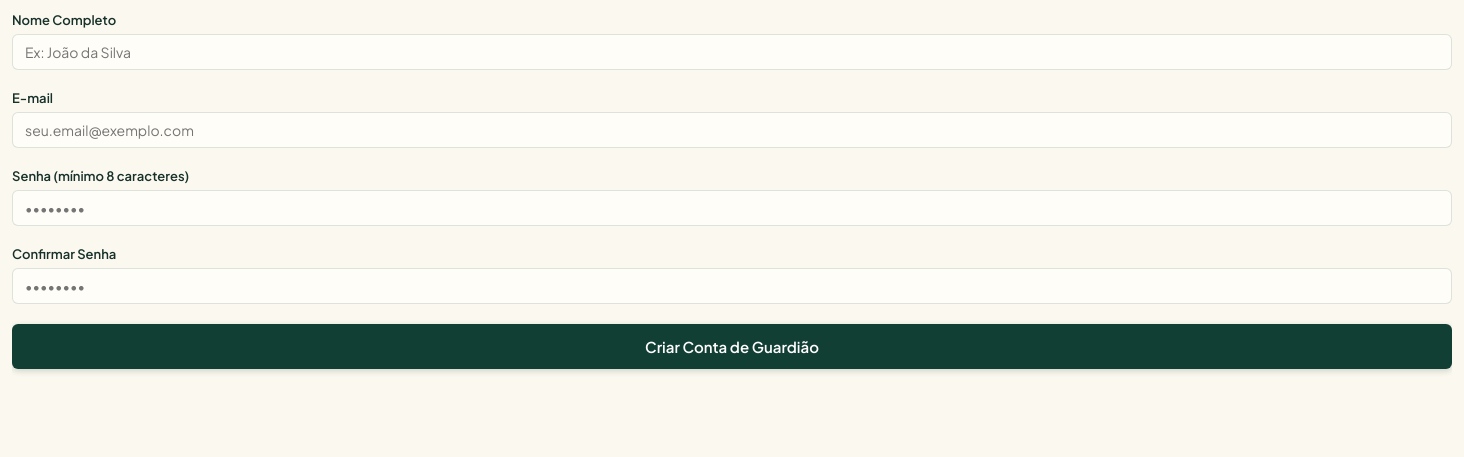
Auth Forms Component Tests › RegisterForm › validates minimum password length
The width and height of the screenshot is (1464, 457).
Type "Guardian Parent" into the field with test id "reg-name-input" at (732, 52), box [12,34,1452,70]
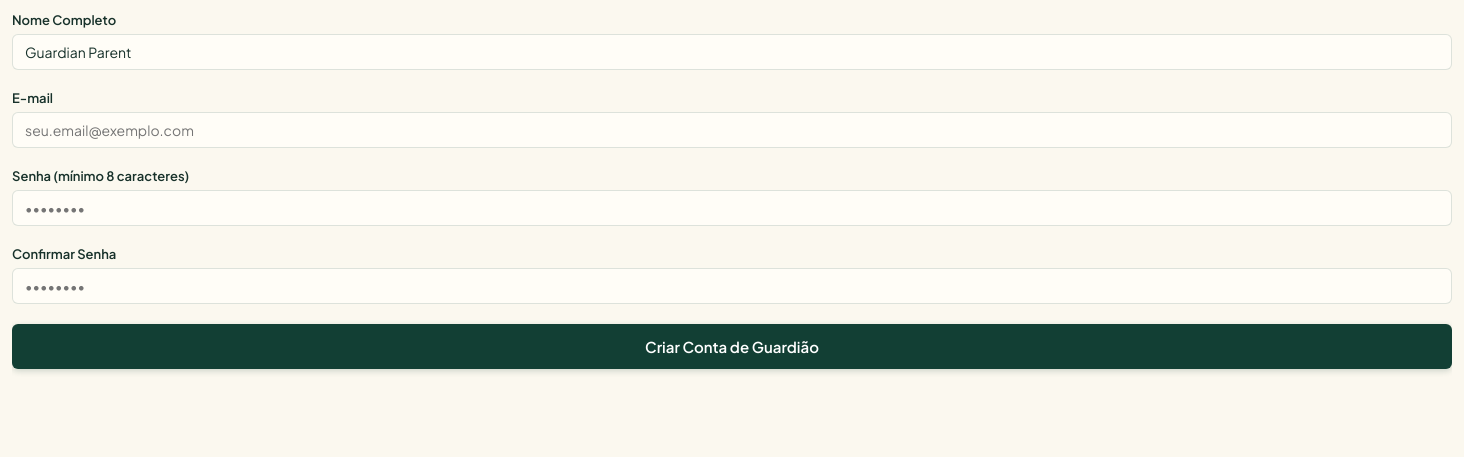
Type "guardian@test.com" into the field with test id "reg-email-input" at (732, 130), box [12,112,1452,148]
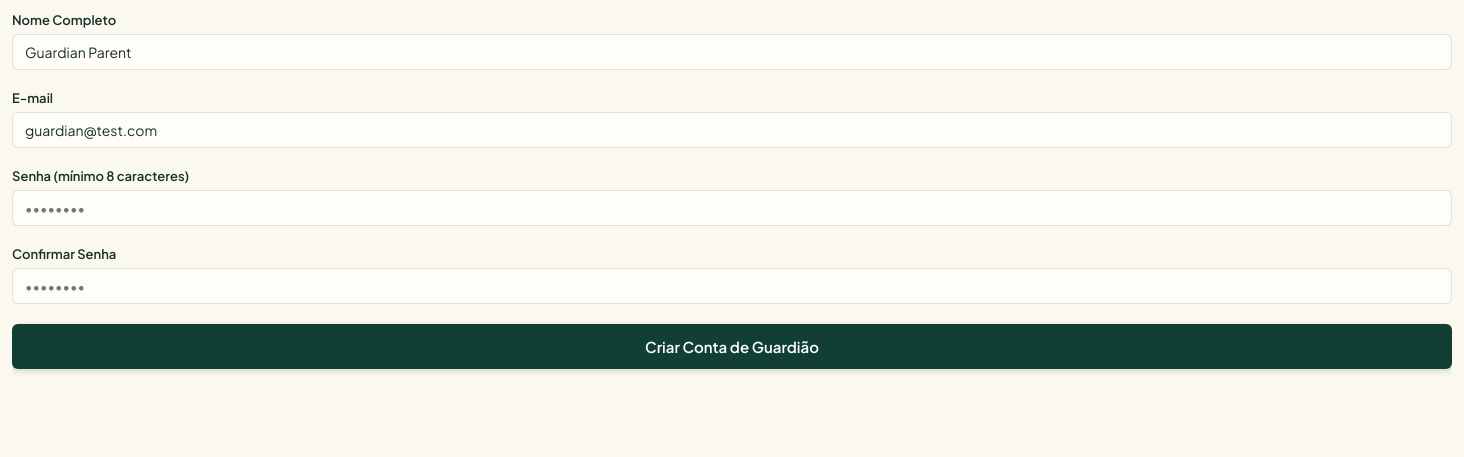
Type "123" into the password field with test id "reg-password-input" at (732, 208), box [12,190,1452,226]
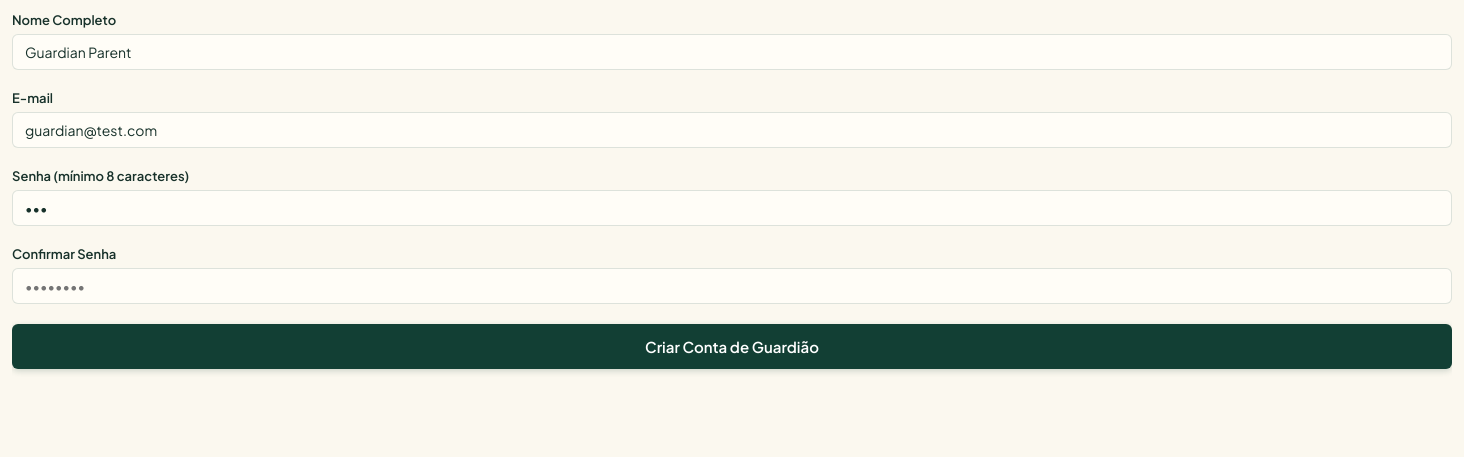
Type "123" into the password field with test id "reg-confirm-password-input" at (732, 286), box [12,268,1452,304]
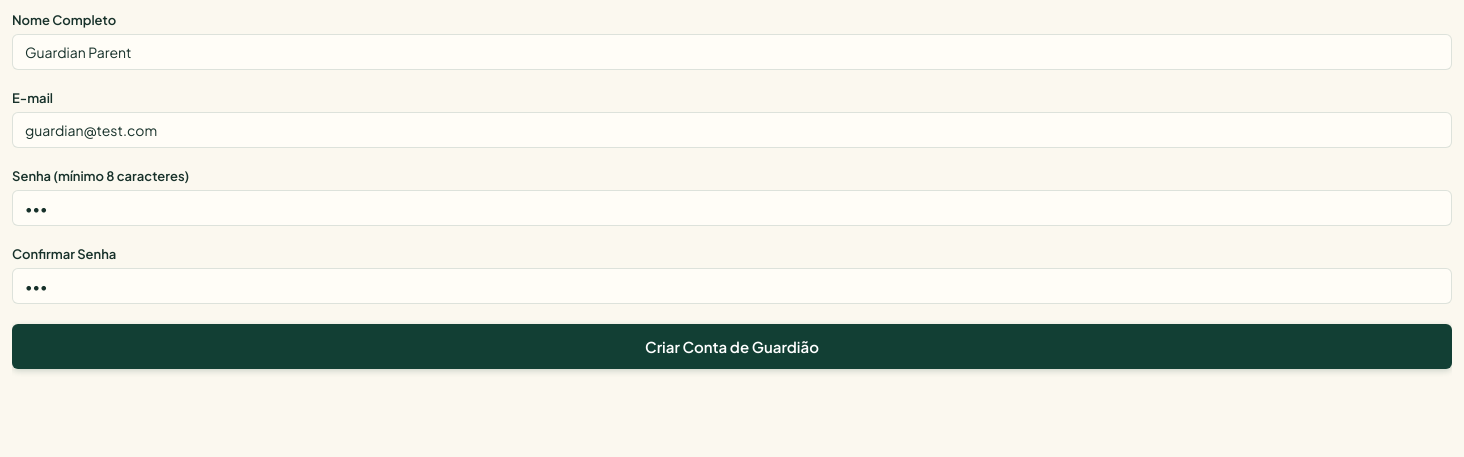
Click the button with test id "register-button" at (732, 346), box [12,324,1452,369]
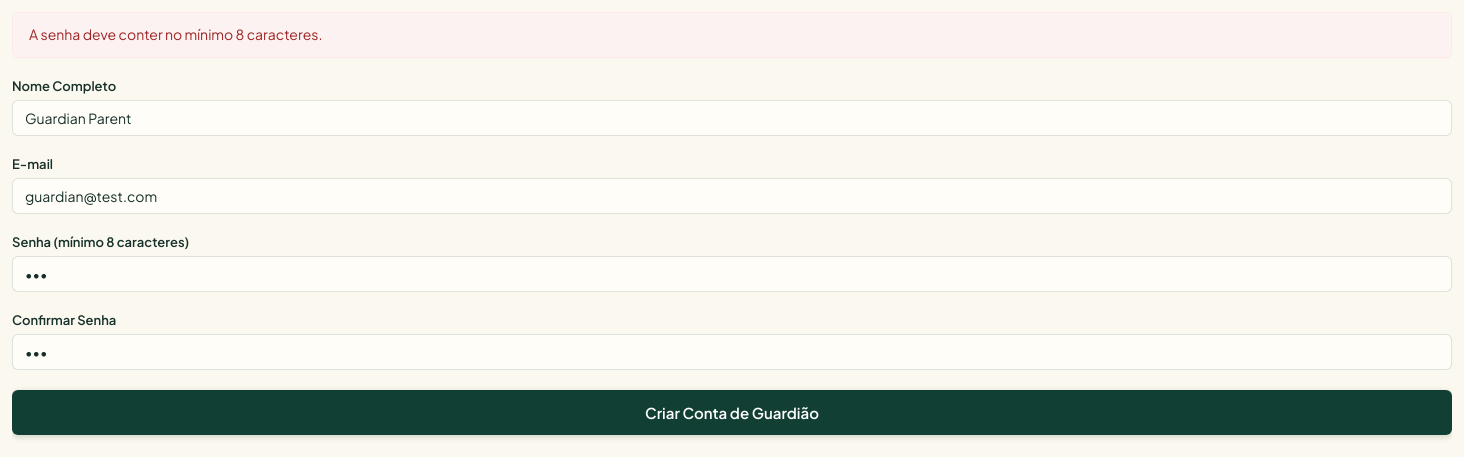
Expected: the message with test id "error-message" reads "A senha deve conter no mínimo 8 caracteres.", [29,25,322,43]
